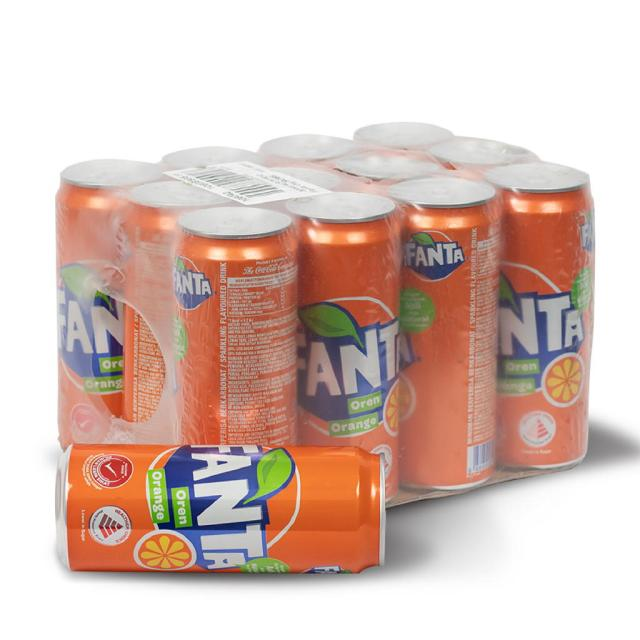fanta: (42, 444, 386, 590), (390, 181, 501, 496), (294, 205, 407, 490), (57, 171, 172, 449), (175, 212, 296, 474), (496, 176, 596, 483)
